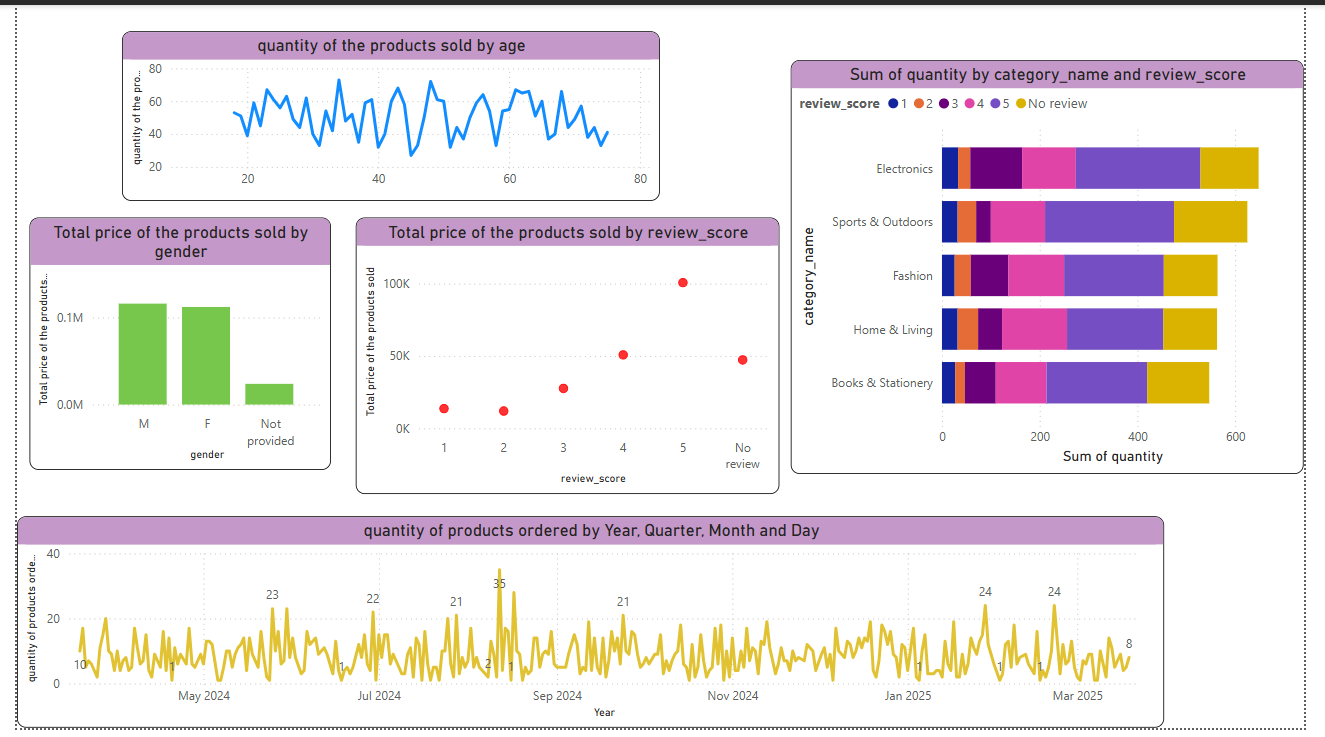

The dashboard page shown, as its layout file describes it:
{"tool":"powerbi","page":{"name":"Sales dashboard 2","canvas":[1280,720],"ordinal":1},"visuals":[{"type":"lineChart","fields":{"Y":["Sum(synthetic_online_retail_data.quantity)"],"Category":["synthetic_online_retail_data.order_date.Variation.Date Hierarchy.Year","synthetic_online_retail_data.order_date.Variation.Date Hierarchy.Quarter","synthetic_online_retail_data.order_date.Variation.Date Hierarchy.Month","synthetic_online_retail_data.order_date.Variation.Date Hierarchy.Day"]},"box":[0,509.3,1141.9,210.5],"z":0},{"type":"barChart","fields":{"Category":["synthetic_online_retail_data.category_name"],"Series":["synthetic_online_retail_data.review_score"],"Y":["Sum(synthetic_online_retail_data.quantity)"]},"box":[769.8,54.7,510.5,411.6],"z":1000},{"type":"lineChart","fields":{"Category":["synthetic_online_retail_data.age"],"Y":["Sum(synthetic_online_retail_data.quantity)"]},"box":[104.5,26.1,534.9,169.2],"z":2000},{"type":"columnChart","fields":{"Category":["synthetic_online_retail_data.gender"],"Y":["Sum(synthetic_online_retail_data.price)"]},"box":[12.4,211.5,299.8,251.3],"z":3000},{"type":"scatterChart","fields":{"X":["synthetic_online_retail_data.review_score Hierarchy.review_score"],"Y":["Sum(synthetic_online_retail_data.price)"]},"box":[337.1,211.5,421.7,274.9],"z":4000}]}

Visuals, with their boxes in screenshot pixels (x1, y1, x2, y2), scaled from the page's 1280x720 canvas onto the 1325x737 screenshot:
lineChart - Sum(synthetic_online_retail_data.quantity) x synthetic_online_retail_data.order_date.Variation.Date Hierarchy.Year: (0, 521, 1182, 736)
barChart - synthetic_online_retail_data.category_name x synthetic_online_retail_data.review_score: (797, 56, 1324, 477)
lineChart - synthetic_online_retail_data.age x Sum(synthetic_online_retail_data.quantity): (108, 27, 662, 200)
columnChart - synthetic_online_retail_data.gender x Sum(synthetic_online_retail_data.price): (13, 216, 323, 474)
scatterChart - synthetic_online_retail_data.review_score Hierarchy.review_score x Sum(synthetic_online_retail_data.price): (349, 216, 785, 498)
